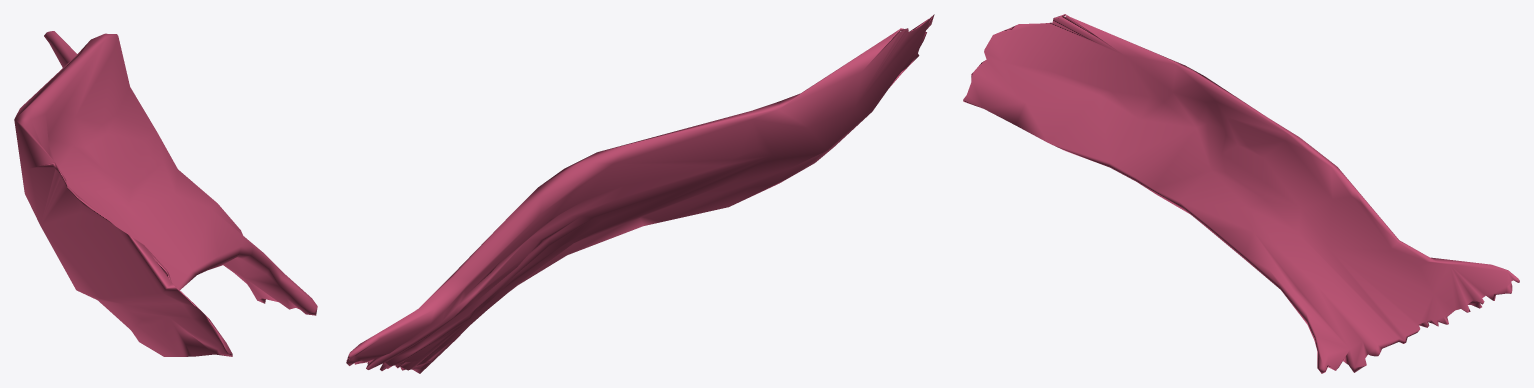
3 renders of one model, left to right at view 1: azimuth 30°, elevation 25°; view 2: azimuth 150°, elevation 25°; view 3: azimuth 270°, elevation 25°, orthographic. The views are drawn at different scales.
Parts seen in each view (by area): view 1: 右侧颧大肌; view 2: 右侧颧大肌; view 3: 右侧颧大肌.
Boxes of the visible parts, box(x1,y1,x2,y2) form: 右侧颧大肌: box(14, 31, 317, 356); 右侧颧大肌: box(346, 14, 934, 373); 右侧颧大肌: box(963, 14, 1519, 373).
Size of the model in its own units: 0.0433 by 0.0378 by 0.0803.
